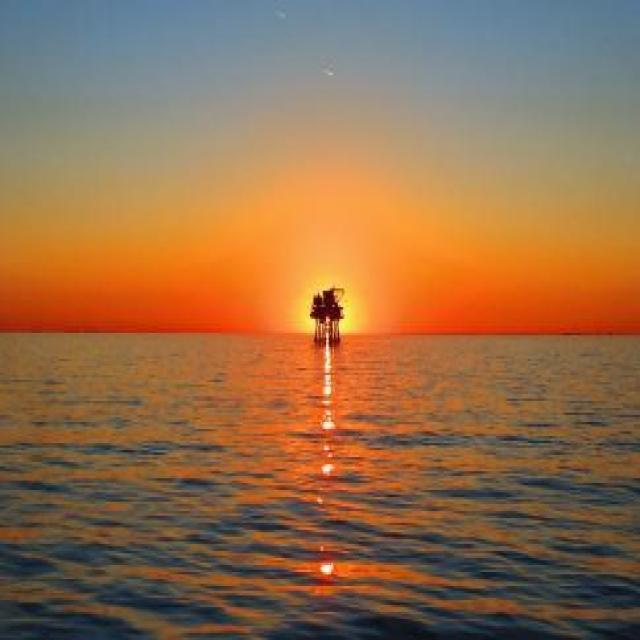other: (375, 198, 635, 327), (0, 242, 267, 331), (287, 268, 378, 342)
